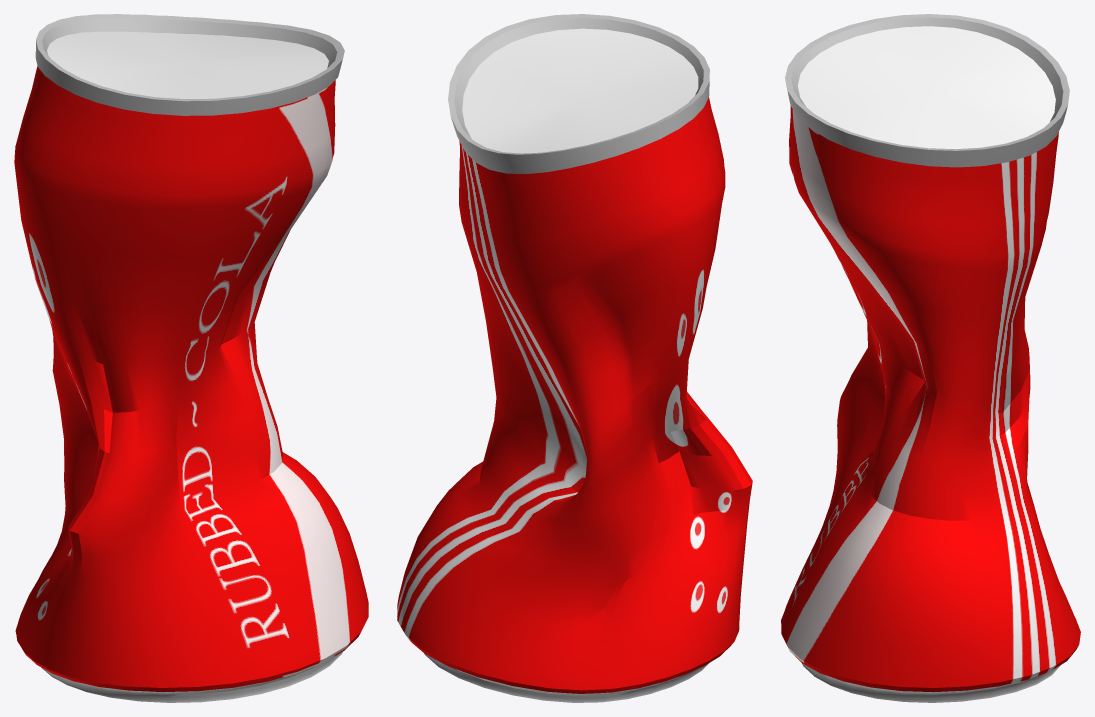
Rendered from Rubbed_Cola_Crushed.fbx.
The picture shows the model from 3 angles, left to right: view 1: azimuth 30°, elevation 25°; view 2: azimuth 150°, elevation 25°; view 3: azimuth 270°, elevation 25°; orthographic projection. The views are drawn at different scales.
Parts seen in each view (by area): view 1: Rubbed_Cola_Crushed; view 2: Rubbed_Cola_Crushed; view 3: Rubbed_Cola_Crushed.
Part boxes in pixels (x1=…): Rubbed_Cola_Crushed: x1=14, y1=14, x2=368, y2=702; Rubbed_Cola_Crushed: x1=397, y1=14, x2=752, y2=702; Rubbed_Cola_Crushed: x1=781, y1=14, x2=1080, y2=702.
Size of the model in its own units: 6.68 by 12.22 by 5.79.
